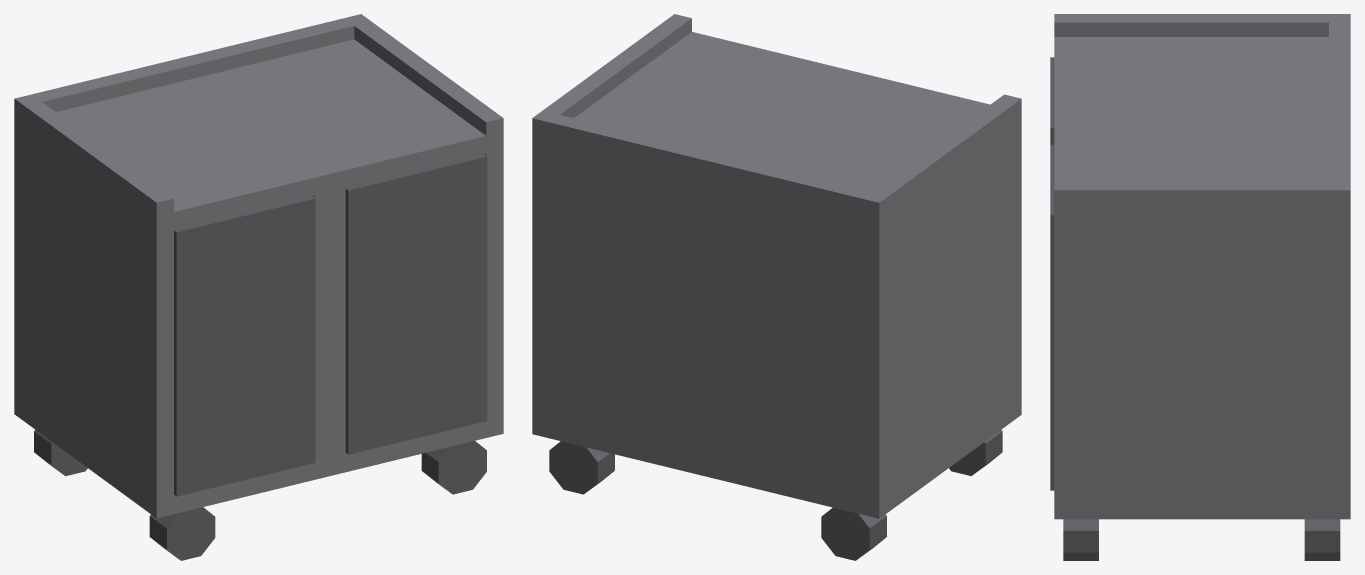
The model's file is cabinet-rolling.fbx.
3 renders of one model, left to right at view 1: azimuth 30°, elevation 25°; view 2: azimuth 150°, elevation 25°; view 3: azimuth 270°, elevation 25°, orthographic. The views are drawn at different scales.
Parts seen in each view (by area): view 1: mobile_cabinet, L_door, R_door; view 2: mobile_cabinet; view 3: mobile_cabinet, L_door, R_door.
Part boxes in pixels (box(x1,y1,x2,y2)): mobile_cabinet: box(14, 14, 503, 560); L_door: box(345, 154, 487, 454); R_door: box(174, 196, 315, 496); mobile_cabinet: box(532, 14, 1021, 560); mobile_cabinet: box(1054, 14, 1350, 560); L_door: box(1050, 144, 1054, 490); R_door: box(1050, 57, 1054, 144).
Size of the model in its own units: 100 by 102 by 72.01.
